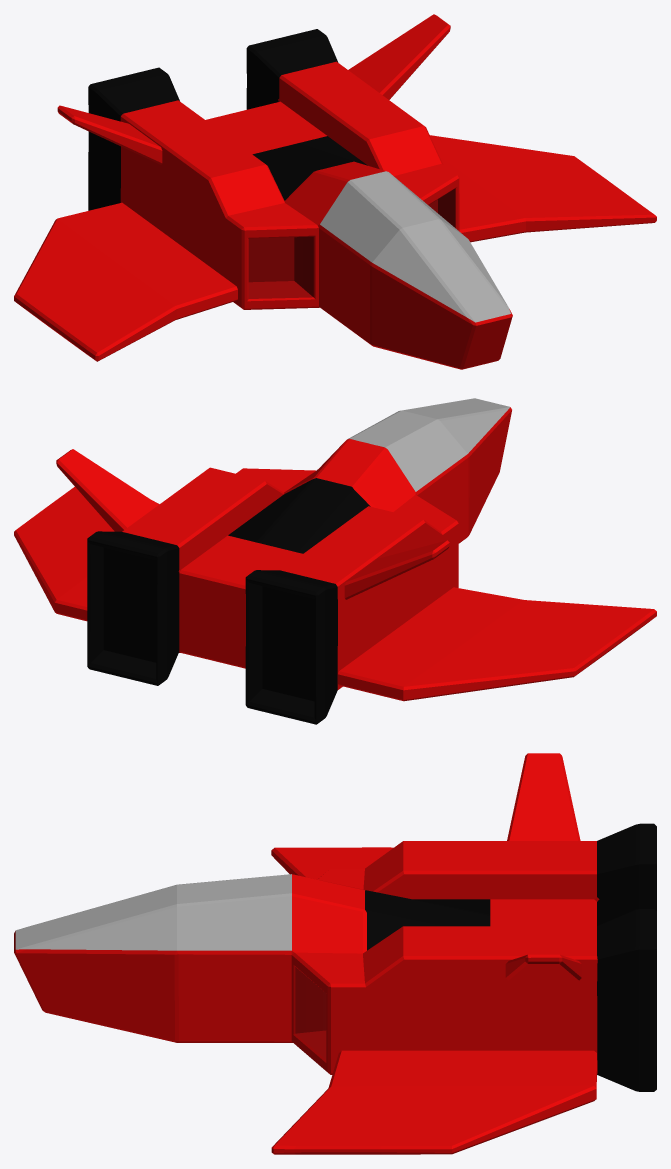
File: player_parts.fbx
3 views of the same model, one above another, from view 1: azimuth 30°, elevation 25°; view 2: azimuth 150°, elevation 25°; view 3: azimuth 270°, elevation 25° (orthographic). The views are drawn at different scales.
Parts seen in each view (by area): view 1: center, cockpit, right_wing, left_wing; view 2: center, right_wing, cockpit, left_wing; view 3: center, cockpit, left_wing, right_wing.
Boxes of the visible parts, left/top/right/bottom form: center: left=57, top=14, right=459, bottom=309; cockpit: left=319, top=171, right=512, bottom=369; right_wing: left=14, top=202, right=237, bottom=361; left_wing: left=430, top=135, right=656, bottom=242; center: left=56, top=439, right=458, bottom=724; right_wing: left=338, top=587, right=656, bottom=701; cockpit: left=330, top=398, right=511, bottom=543; left_wing: left=14, top=487, right=159, bottom=621; center: left=291, top=753, right=656, bottom=1091; cockpit: left=14, top=874, right=292, bottom=1042; left_wing: left=271, top=1050, right=596, bottom=1154; right_wing: left=271, top=847, right=393, bottom=879.
Bounding box in the file's own units: 638 × 174 × 574.
